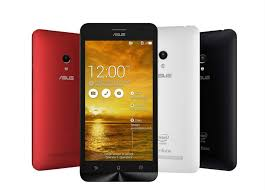asus: (21, 14, 251, 184), (77, 19, 159, 186), (153, 19, 201, 178), (29, 25, 79, 173), (195, 20, 241, 176)
